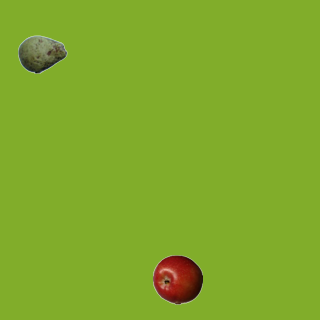Apple Braeburn: (152, 254, 202, 304)
Pear Stone: (17, 29, 67, 79)
